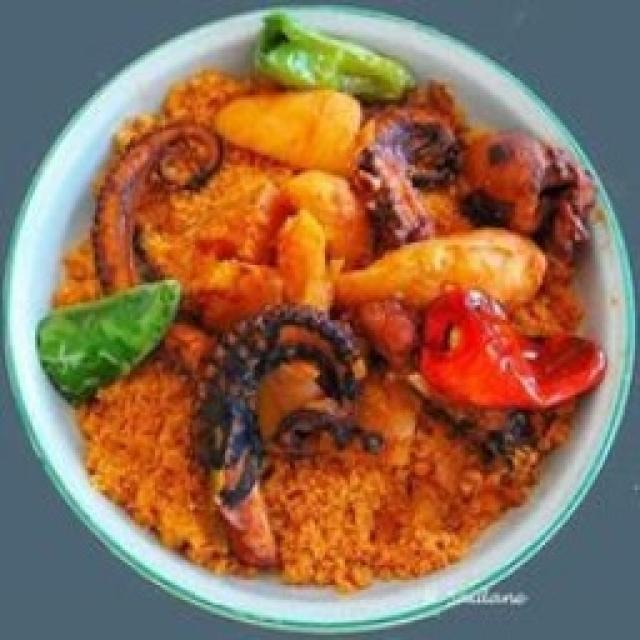Couscous: (55, 71, 605, 589)
